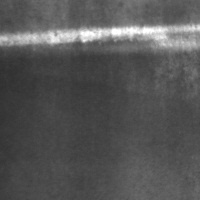scratches: (0, 22, 199, 51)
